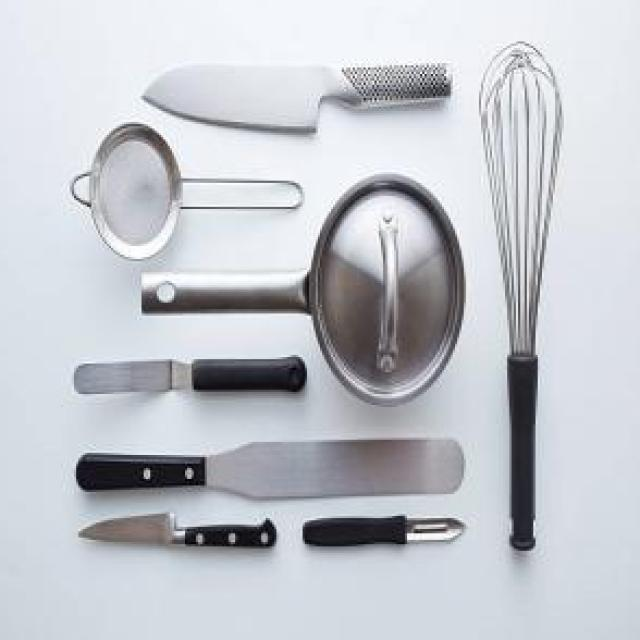knife: (133, 59, 457, 138), (74, 433, 470, 495), (79, 512, 278, 564), (72, 357, 308, 396), (300, 512, 468, 555)
